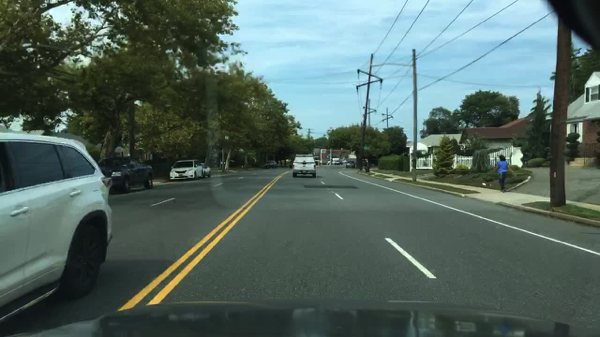car: (0, 132, 112, 327), (96, 158, 154, 193), (169, 160, 205, 180), (291, 154, 317, 177), (200, 164, 212, 177), (263, 159, 277, 169), (345, 161, 356, 169), (332, 158, 343, 166)
person: (495, 154, 513, 193)
